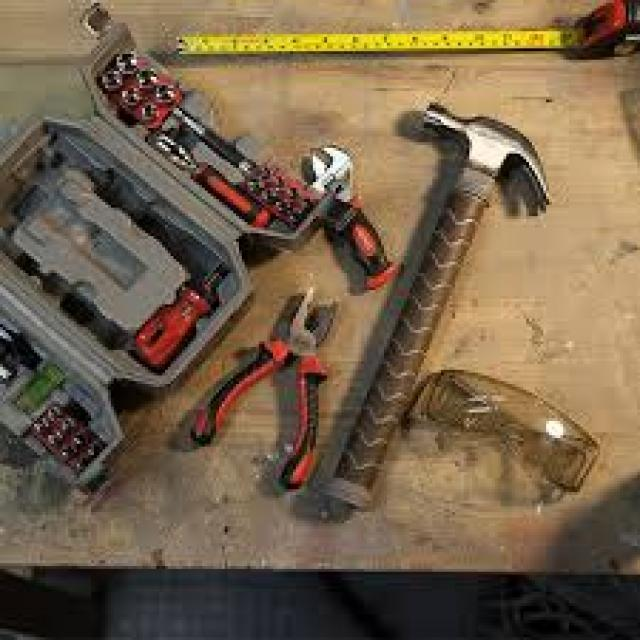hammer: (319, 97, 558, 514)
pliers: (182, 279, 346, 499)
wrench: (297, 135, 404, 295)
